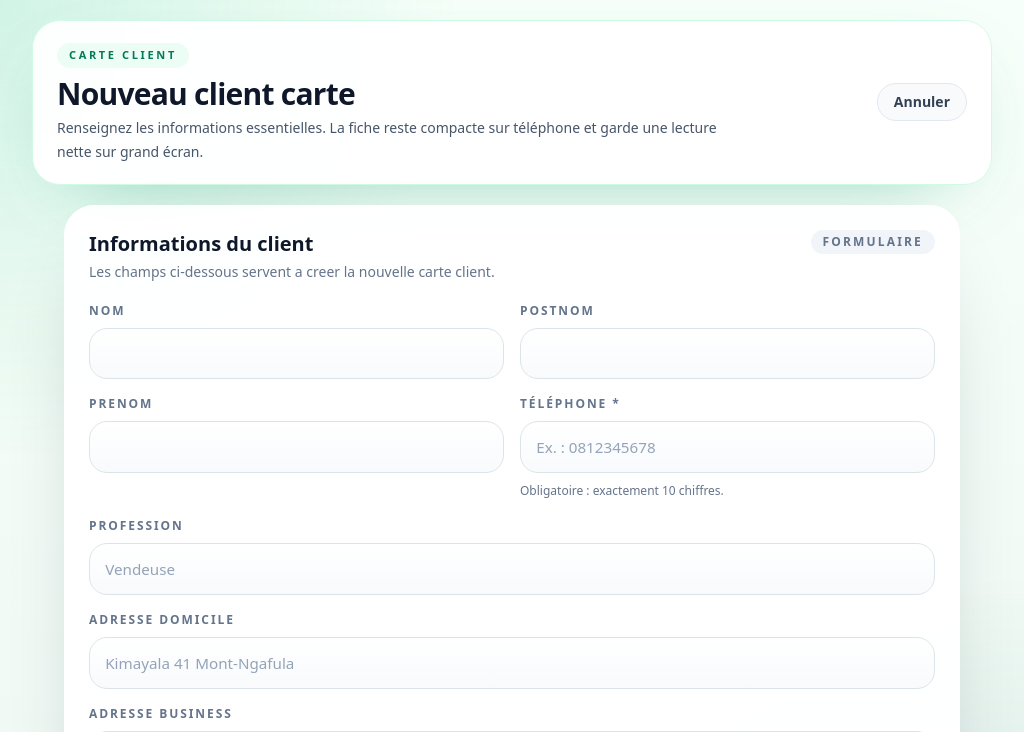
Scenario: NewCardComponent › shows the required error immediately when a previously entered number is cleared
This screenshot has width=1024, height=732.
Type "0812345678" into the field labelled "Téléphone * Obligatoire : exactement 10 chiffres." at (728, 448), box x1=520 y1=422 x2=935 y2=474
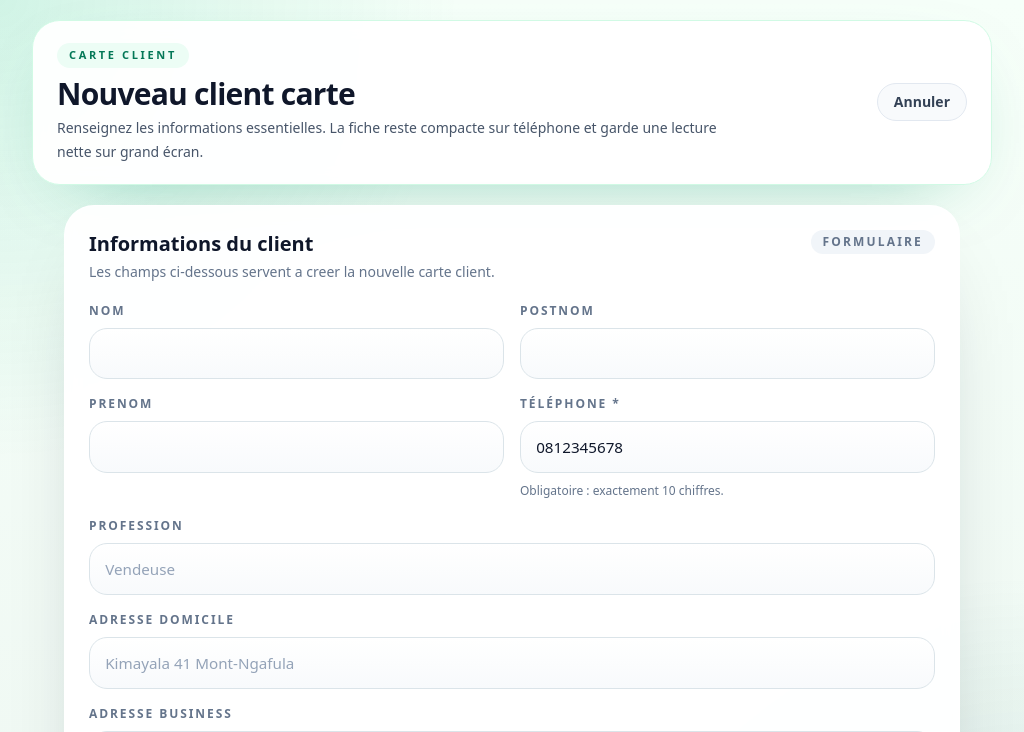
Clear the field labelled "Téléphone * Obligatoire : exactement 10 chiffres." at (728, 448), box x1=520 y1=422 x2=935 y2=474
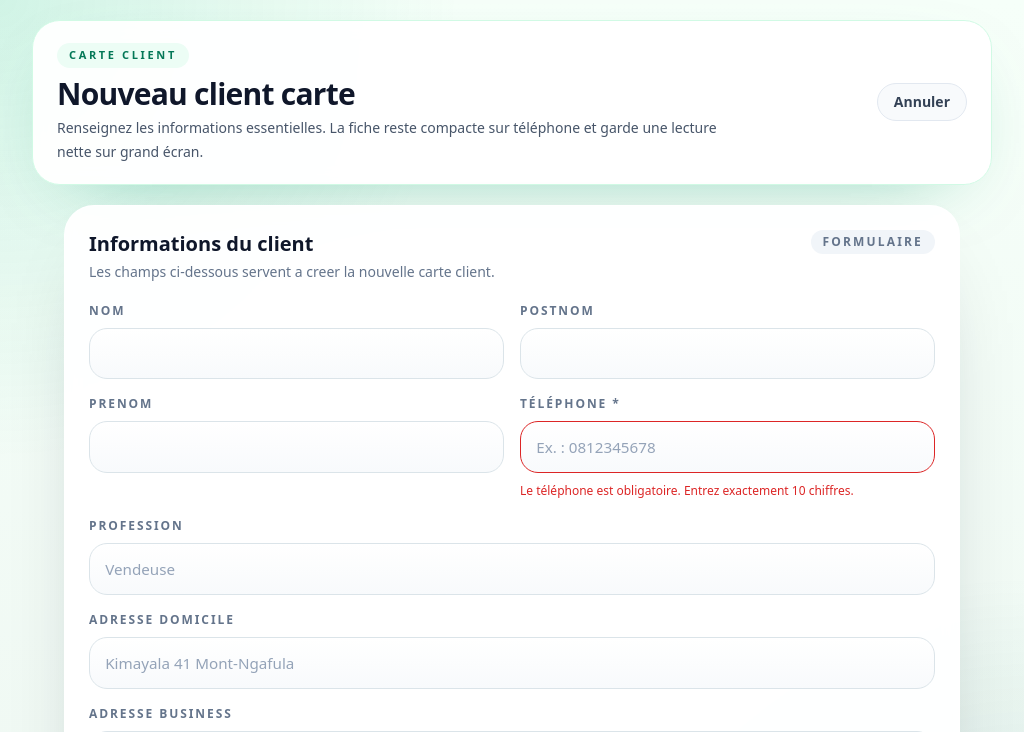
expect the text "Le téléphone est obligatoire. Entrez exactement 10 chiffres." is shown: met, box x1=520 y1=482 x2=854 y2=499
